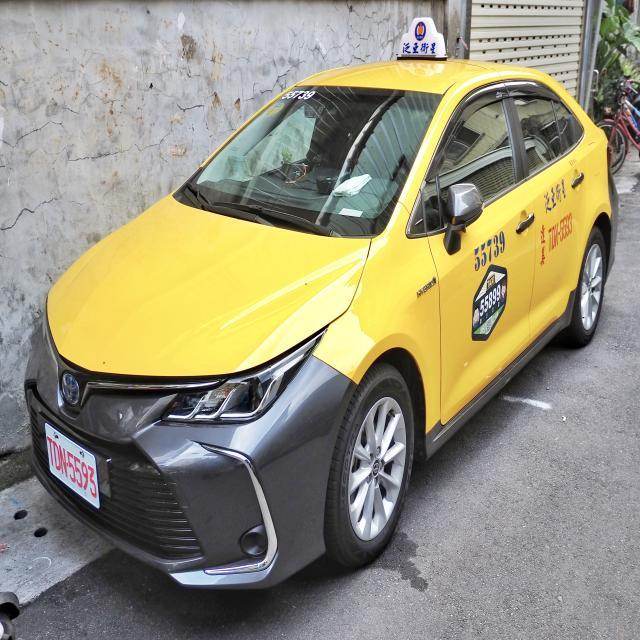taxi: (1, 10, 639, 610)
